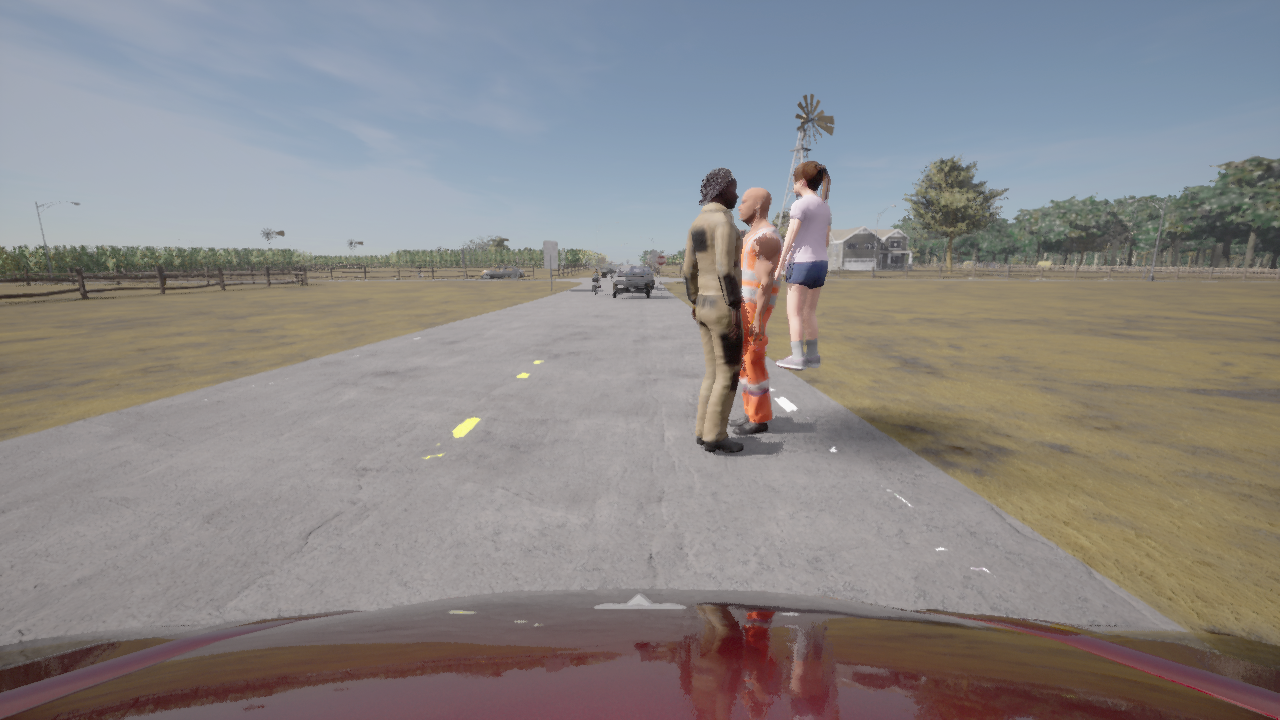cyclist: (0, 588, 1279, 719), (612, 266, 652, 298), (480, 266, 523, 279), (638, 266, 653, 288), (598, 265, 620, 280), (588, 273, 602, 294), (409, 272, 426, 279)
pedestrian: (684, 168, 742, 452), (727, 188, 782, 434), (774, 160, 830, 370), (163, 271, 166, 285)
